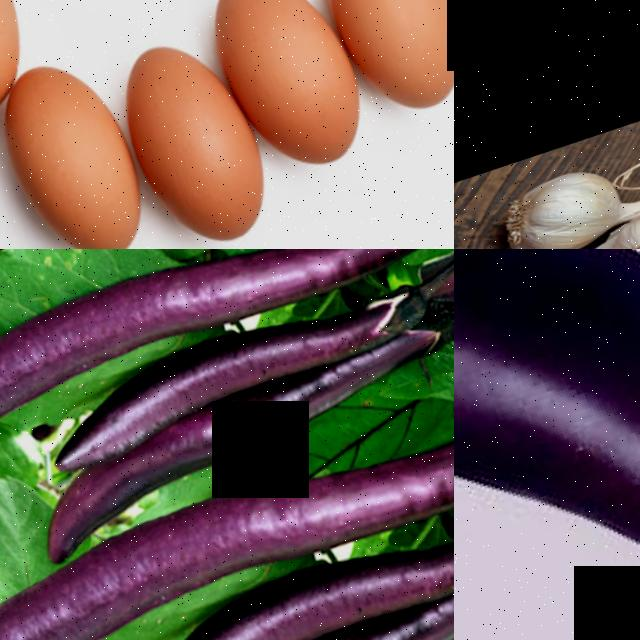egg_: (94, 8, 293, 249), (193, 0, 388, 187), (0, 43, 170, 249), (295, 0, 454, 127)
eggplant: (0, 359, 454, 640), (0, 249, 454, 485), (40, 264, 403, 487), (454, 249, 640, 640), (106, 482, 454, 640)
garlic: (487, 145, 637, 249)
